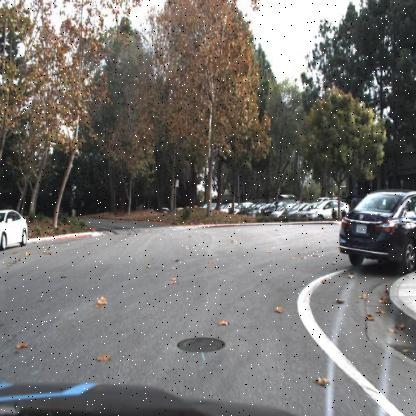car: (337, 182, 415, 274), (0, 207, 29, 253), (304, 198, 351, 222)
